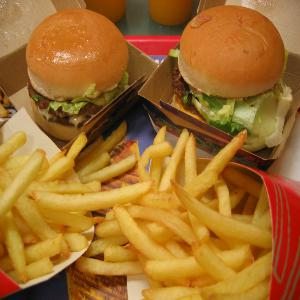cheeseburger_475cal: (169, 4, 291, 148), (23, 3, 135, 138)
fries_350cal: (4, 136, 273, 300)
